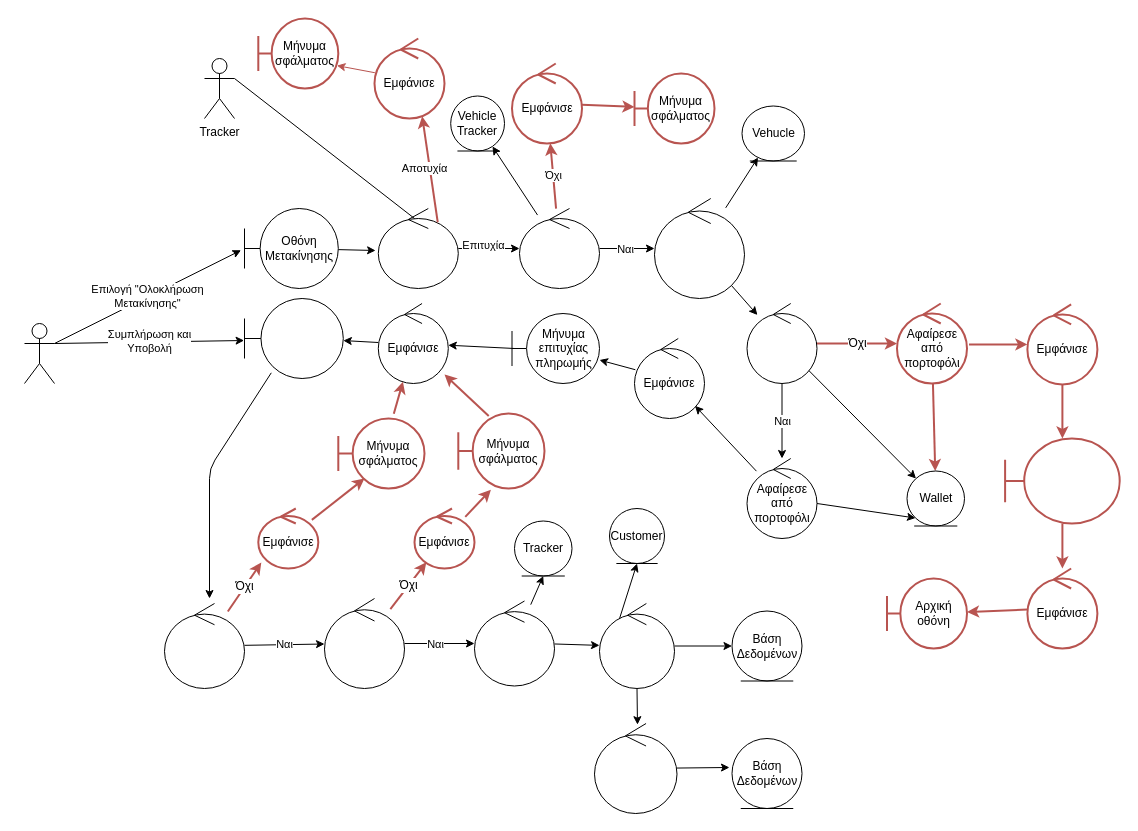
Image size: 1138x831. Some labels were removed from this diagram. Here are the shapes that lost their labels. From the top down, the centre of each, then its label:
point (417, 248): Επικοινωνία με tracker
point (559, 248): Είναι το όχημα σταματημένο
point (699, 248): Υπολογισμός χρονοχρέωσης
point (39, 353): Πελάτης
point (293, 338): Επιβεβαίωση ασφάλισης οχήματος
point (781, 343): Επαρκές υπόλοιπο;
point (1062, 480): Προειδοποιητικό μήνυμα
point (204, 645): Έχουν συμπληρωθεί όλα τα πεδία
point (364, 643): Φωτογραφίες εντός ορίου μεγέθους;
point (514, 643): Υπολογισμός πόντων
point (636, 645): Ενημέρωση πόντων πελάτη
point (635, 768): Αποθήκευση μετακίνησης
